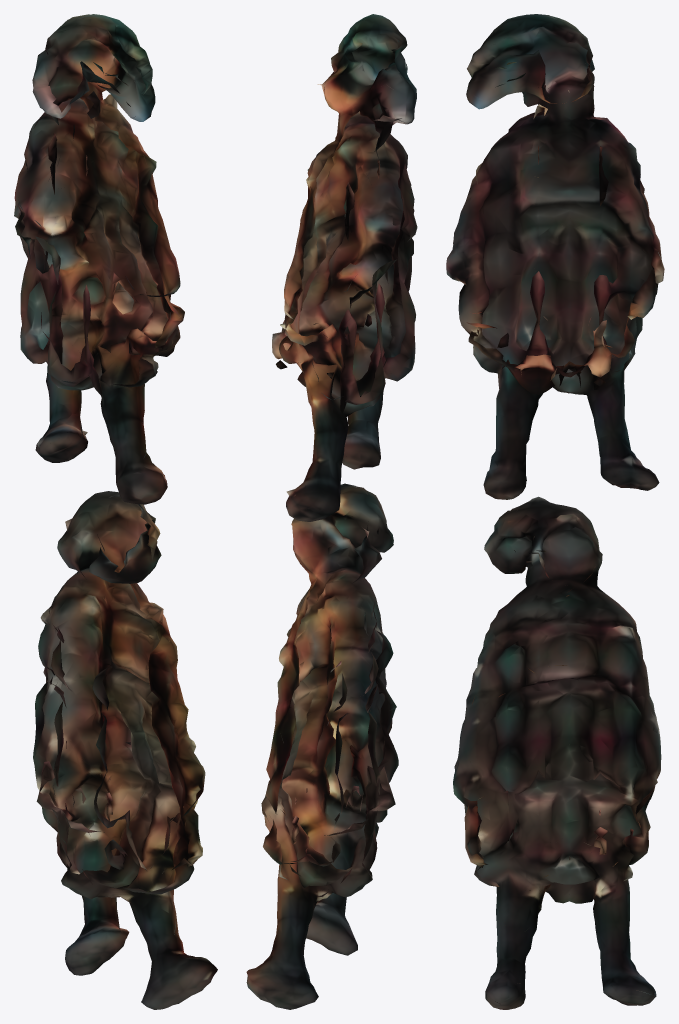
3 renders of one model, left to right at view 1: azimuth 30°, elevation 25°; view 2: azimuth 150°, elevation 25°; view 3: azimuth 270°, elevation 25°, orthographic. The views are drawn at different scales.
Parts seen in each view (by area): view 1: world; view 2: world; view 3: world.
Boxes of the visible parts, <box> form: world: <box>14,14,217,1009</box>; world: <box>246,14,417,1009</box>; world: <box>446,14,664,1009</box>.
Size of the model in its own units: 0.2851 by 1.75 by 0.3585.
1 material, 1 textured.
